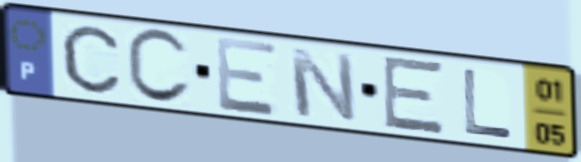C: (123, 26, 195, 108), (58, 22, 124, 96)
E: (212, 33, 281, 119), (381, 53, 448, 138)
L: (460, 65, 515, 142)
N: (285, 44, 361, 126)
